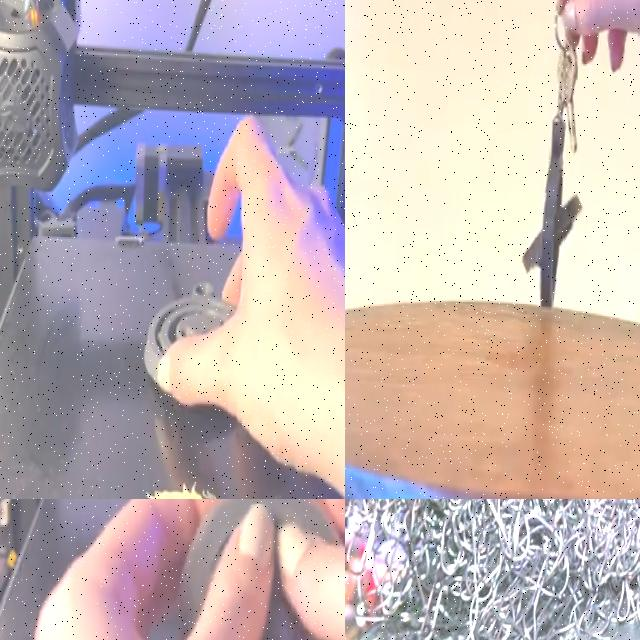spaghetti: (345, 499, 640, 640)
